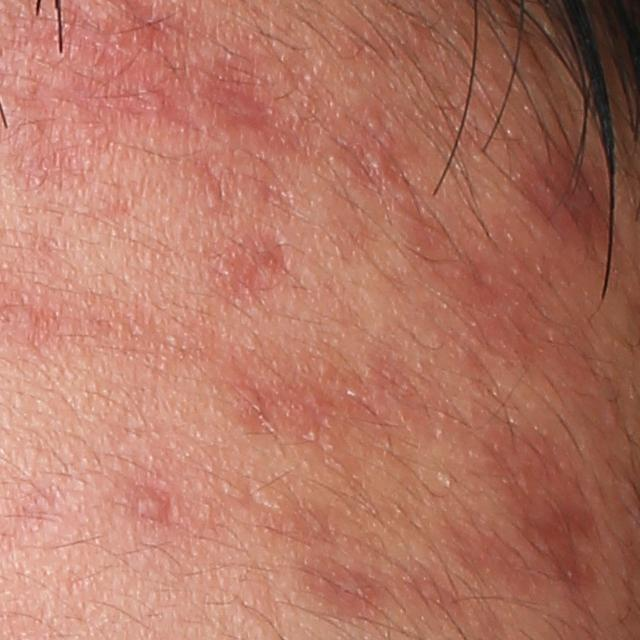atrophic_scar: (194, 49, 309, 138), (530, 485, 608, 599), (215, 225, 306, 309)
papule: (144, 491, 180, 526)
